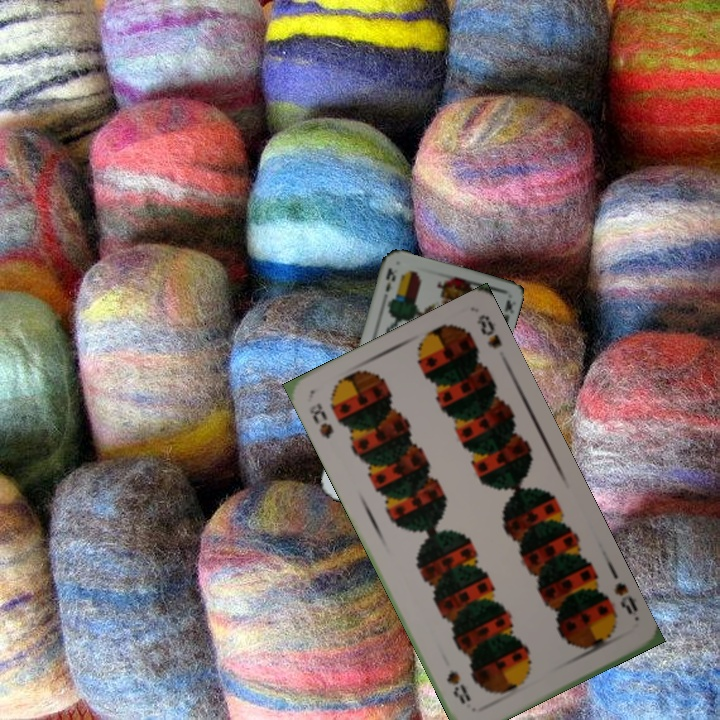EK: (382, 264, 398, 295)
S8: (305, 399, 336, 442), (610, 578, 641, 618)
